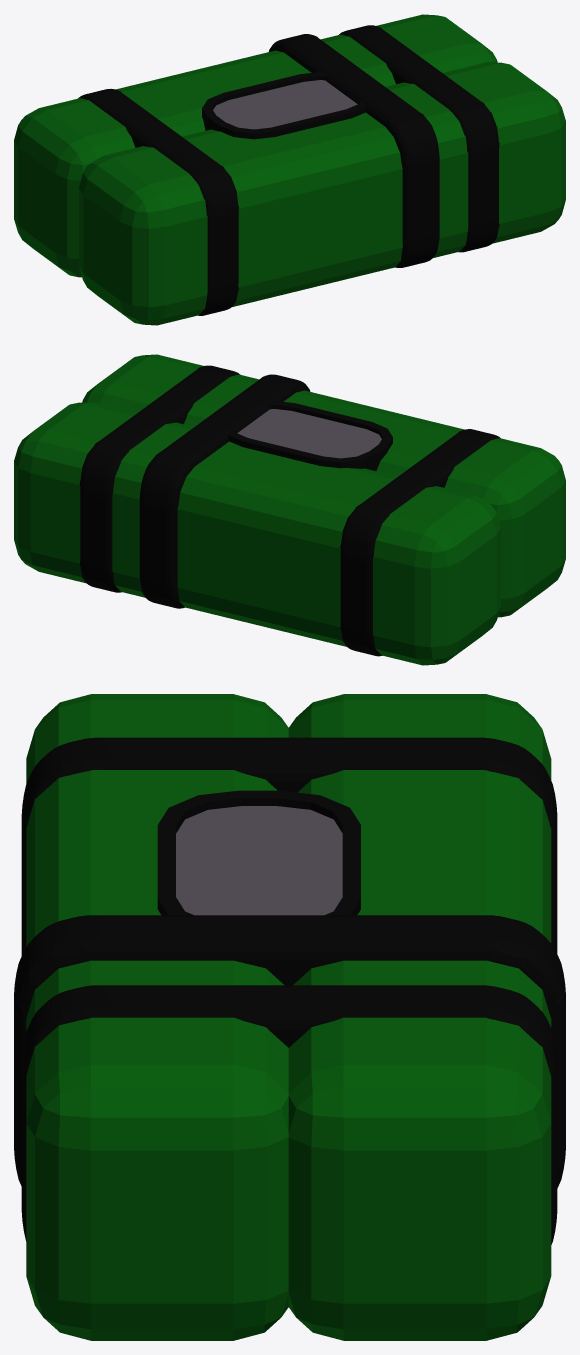
3 renders of one model, top to bottom at view 1: azimuth 30°, elevation 25°; view 2: azimuth 150°, elevation 25°; view 3: azimuth 270°, elevation 25°, orthographic. The views are drawn at different scales.
Parts seen in each view (by area): view 1: Cube, Cube.001, Cube.005, Cube.003, Cube.002, Cube.004; view 2: Cube.001, Cube, Cube.005, Cube.003, Cube.002, Cube.004; view 3: Cube.001, Cube, Cube.005, Cube.004, Cube.002, Cube.003.
Boxes of the visible parts, x1,y1,x2,y2 form: Cube: (79, 62, 565, 325); Cube.001: (14, 14, 497, 277); Cube.005: (269, 34, 439, 267); Cube.003: (78, 88, 238, 315); Cube.002: (339, 25, 499, 252); Cube.004: (202, 72, 367, 139); Cube.001: (14, 402, 500, 665); Cube: (82, 354, 565, 617); Cube.005: (139, 374, 310, 608); Cube.003: (340, 429, 500, 656); Cube.002: (79, 365, 239, 592); Cube.004: (227, 401, 392, 470); Cube.001: (288, 694, 551, 1340); Cube: (26, 694, 288, 1340); Cube.005: (14, 915, 565, 1188); Cube.004: (157, 790, 360, 915); Cube.002: (21, 985, 557, 1244); Cube.003: (21, 737, 557, 955).
Bounding box in the file's own units: 306 × 98.66 × 170.
